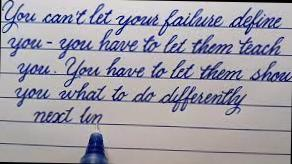text: (0, 0, 283, 38), (6, 25, 286, 63), (14, 52, 292, 90), (14, 79, 248, 116), (32, 104, 104, 126)
